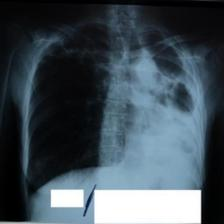tuberculosis: (21, 10, 203, 190)
